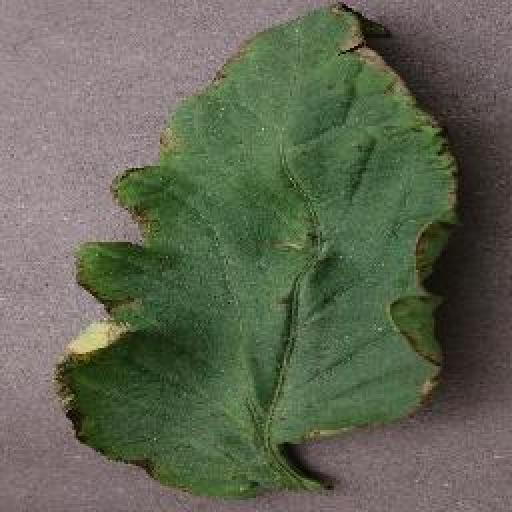Bacterial Spot: (56, 0, 466, 496)
